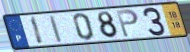0: (72, 12, 97, 42)
3: (142, 6, 167, 37)
8: (96, 10, 120, 40)
I: (48, 14, 64, 44), (29, 16, 45, 46)
P: (115, 8, 141, 39)
